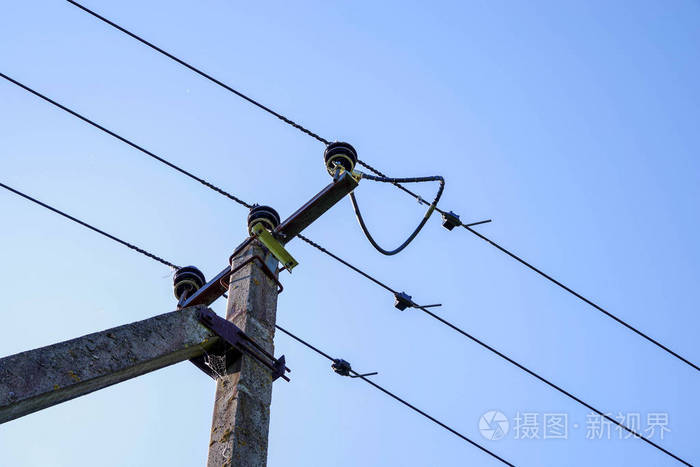insulator: (318, 141, 360, 174), (244, 203, 283, 235), (170, 265, 202, 297)
